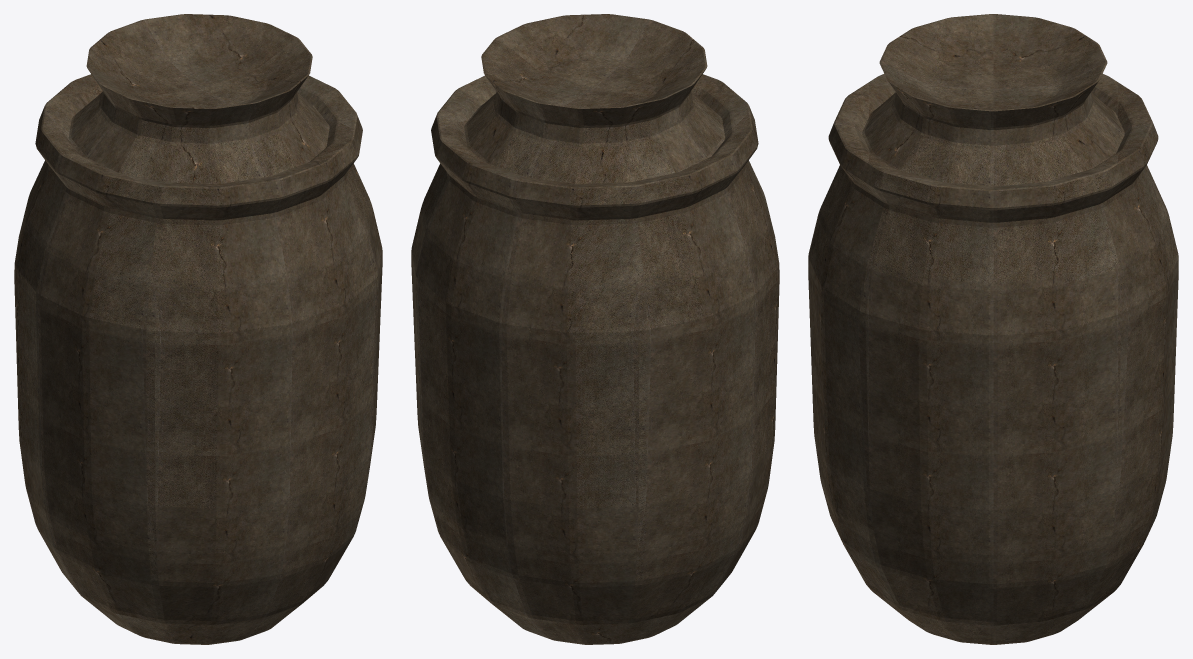
File: jug4.dae
The picture shows the model from 3 angles, left to right: view 1: azimuth 30°, elevation 25°; view 2: azimuth 150°, elevation 25°; view 3: azimuth 270°, elevation 25°; orthographic projection.
Visible parts, largest first — view 1: jug4; view 2: jug4; view 3: jug4.
Boxes of the visible parts, box(x1,y1,x2,y2) form: jug4: box(14, 14, 382, 644); jug4: box(411, 14, 779, 644); jug4: box(808, 14, 1178, 644).
Size of the model in its own units: 0.1813 by 0.1813 by 0.3034.
Materials: 1 (1 with a texture image).
